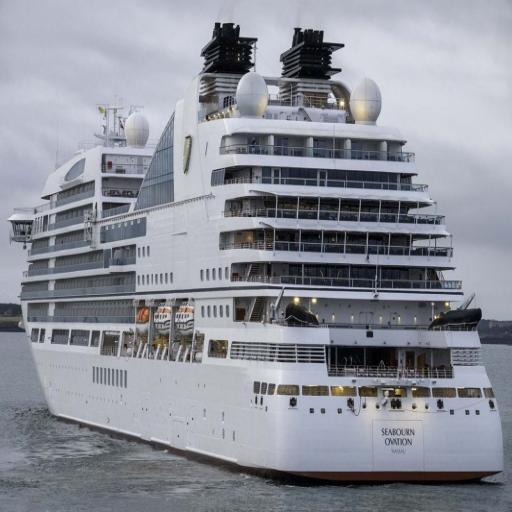cruises: (8, 18, 507, 488)
